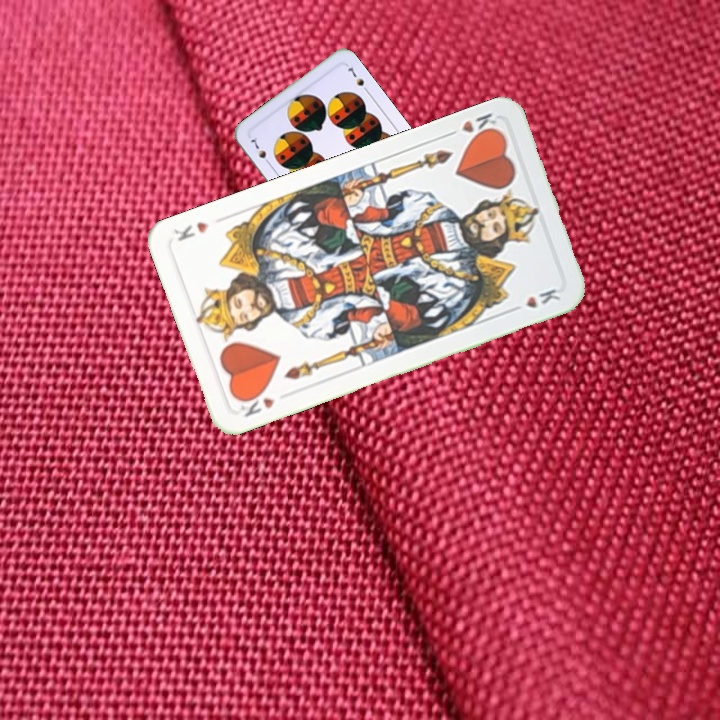HK: (442, 108, 502, 143), (234, 387, 278, 420)
S7: (246, 133, 274, 169)
